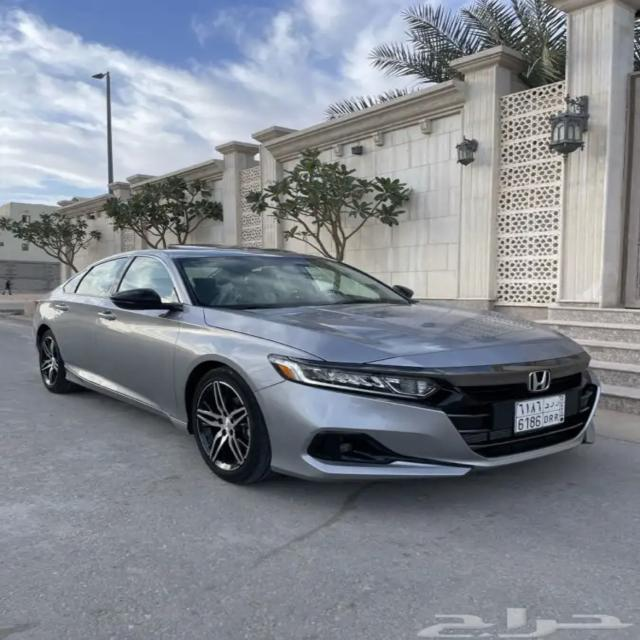license_plate: (512, 396, 567, 434)
